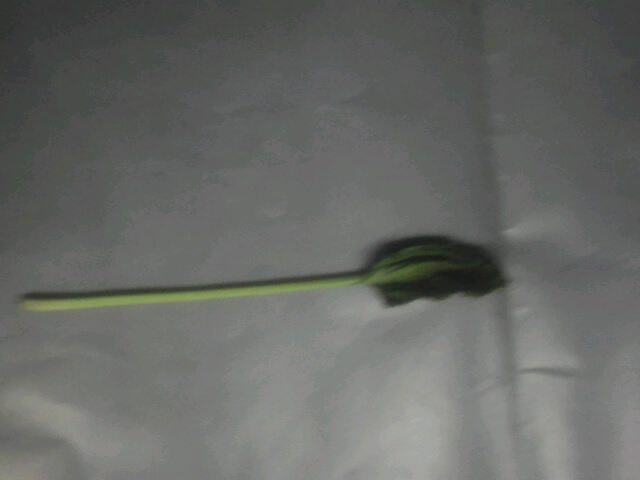yellow: (192, 216, 523, 318)
